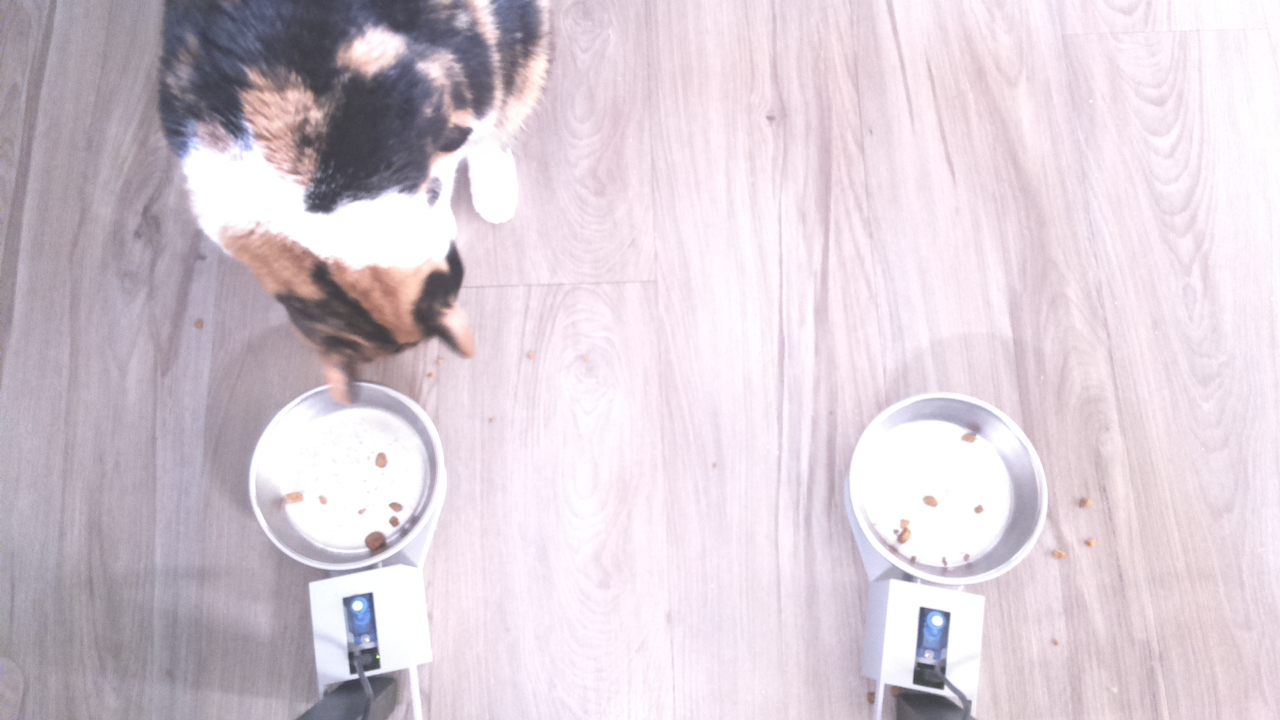bella: (192, 166, 525, 408)
open_bowl: (845, 389, 1052, 593), (239, 383, 458, 568)
